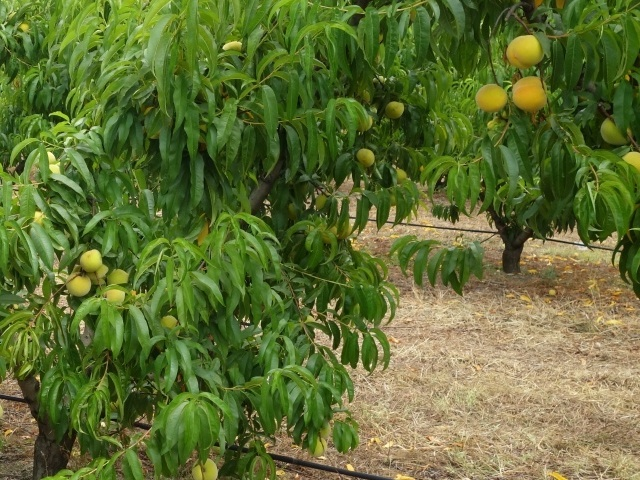peach: (503, 31, 547, 73), (511, 74, 553, 114), (470, 80, 511, 116), (597, 109, 632, 148), (65, 270, 93, 298), (189, 455, 220, 479), (78, 248, 104, 275), (109, 265, 134, 293), (618, 147, 640, 178), (103, 286, 128, 310), (159, 313, 183, 338), (353, 146, 377, 171), (381, 98, 406, 120), (89, 263, 111, 287), (310, 432, 329, 458), (312, 192, 333, 215), (390, 164, 409, 187)
